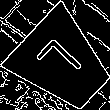L_SE: (34, 35, 91, 92)
